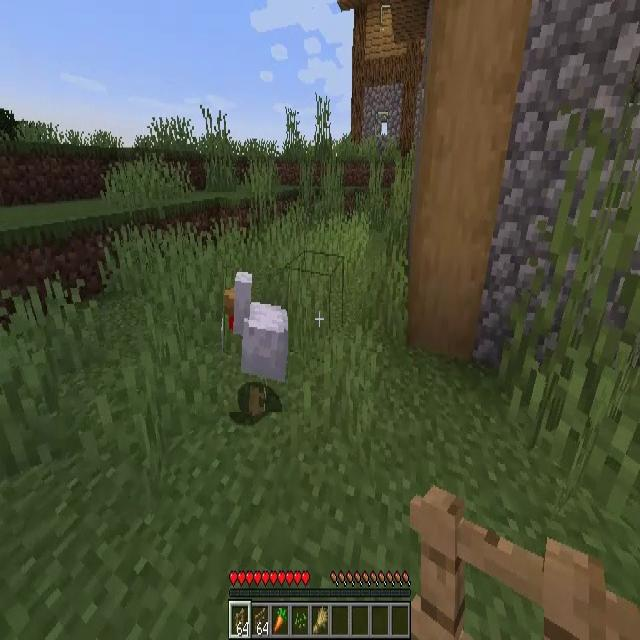duck: (223, 268, 288, 412)
